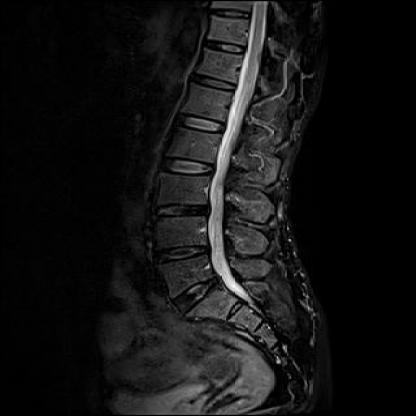Degenerative Disc Diseaserotation: (166, 279, 229, 312)
Disc Bulgerotation: (149, 200, 215, 226), (150, 242, 214, 267)
